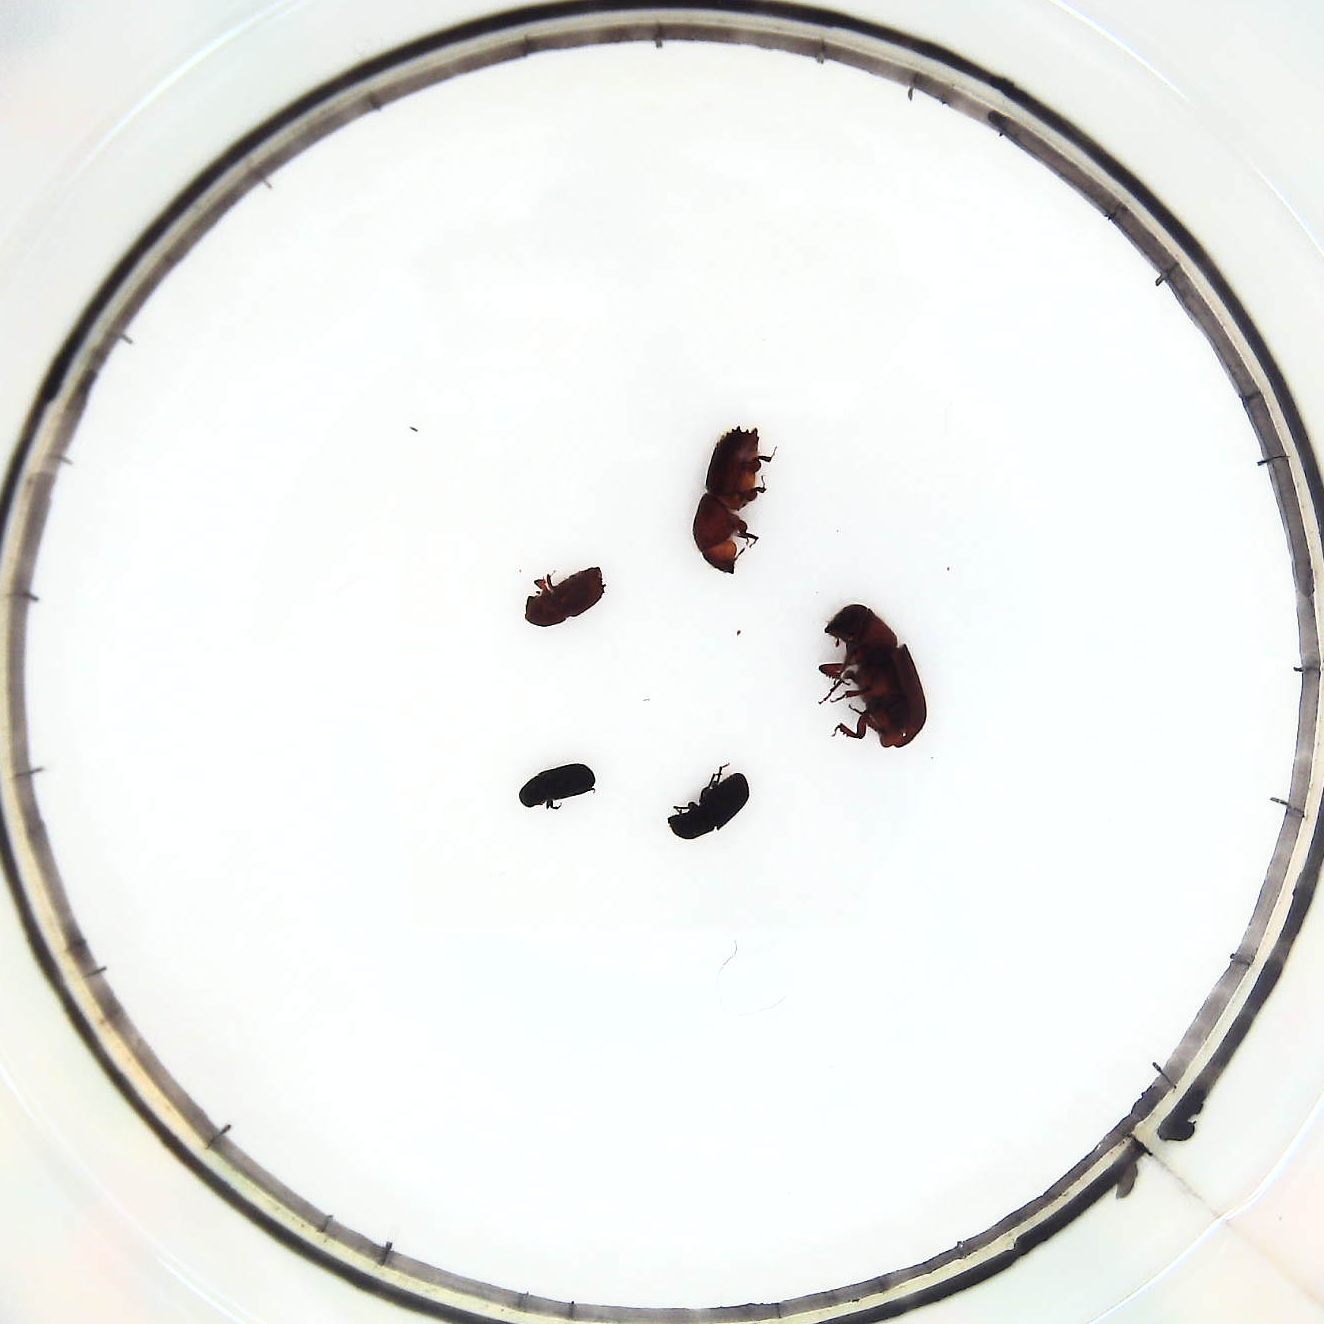Boerner: (694, 426, 777, 584)
Leconte: (814, 601, 936, 754)
armandi: (663, 761, 751, 848)
coleoptera: (517, 764, 599, 815)
linnaeus: (521, 563, 616, 633)
